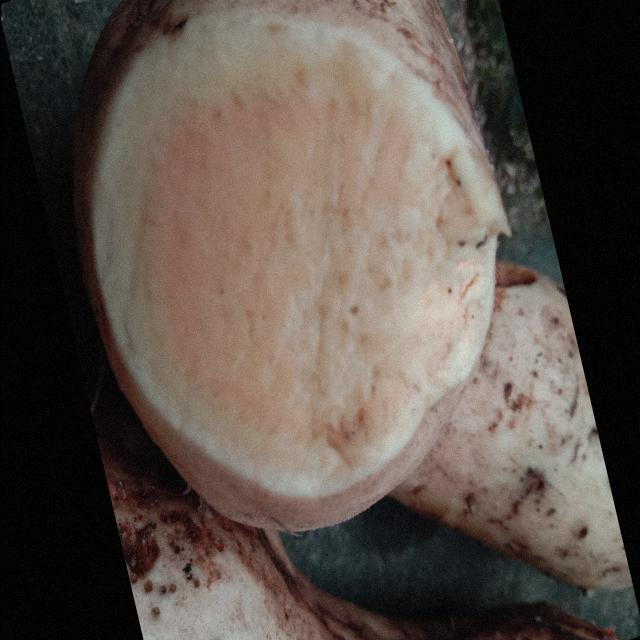Healthy Sweet Potato: (74, 2, 509, 498)
